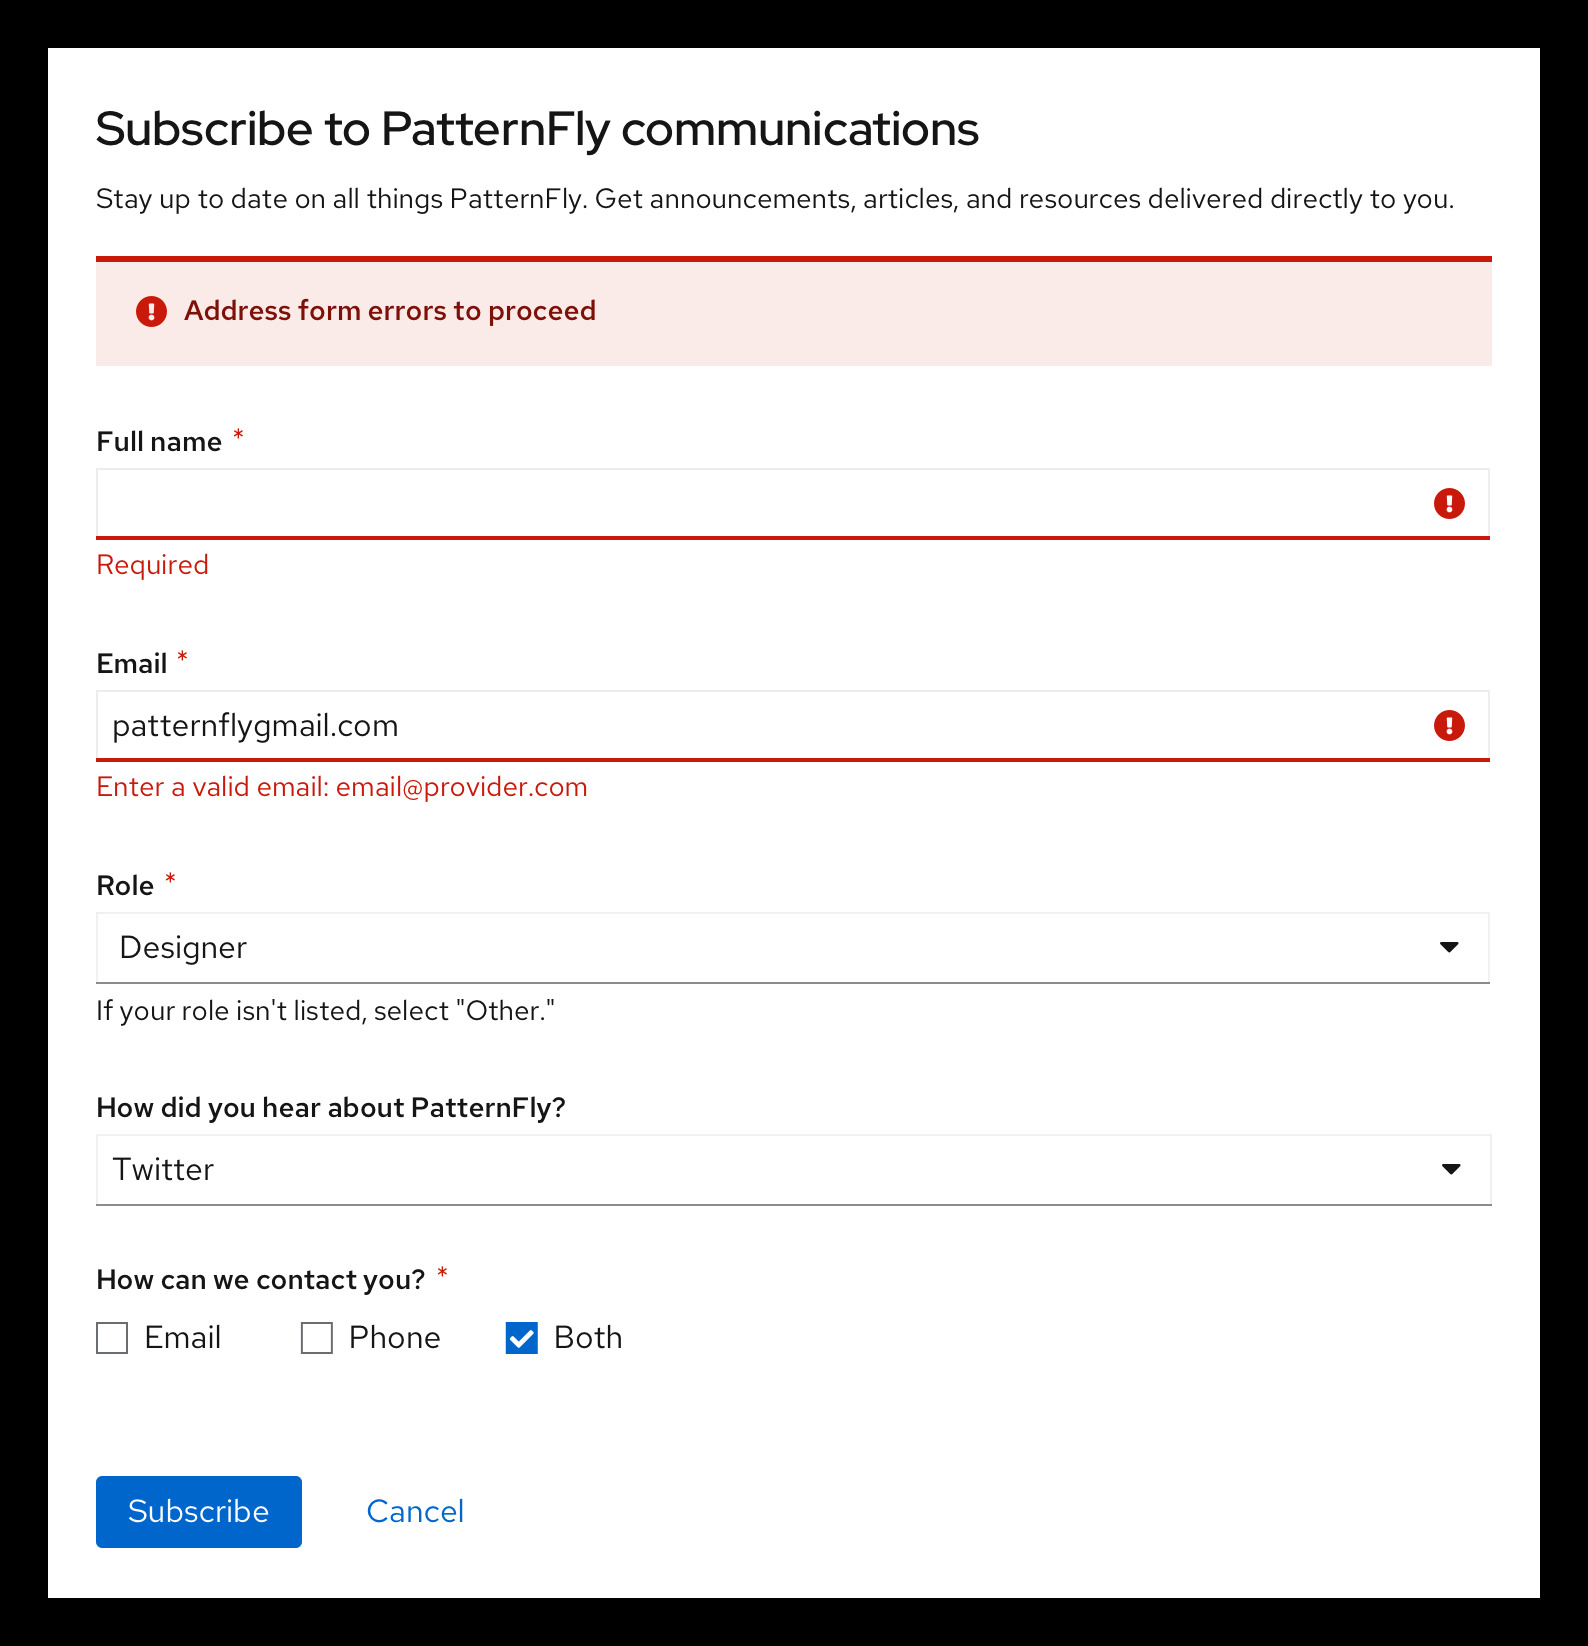error_field: (93, 464, 1490, 544), (93, 686, 1493, 763)
error_message: (90, 775, 595, 801), (176, 294, 610, 323), (93, 547, 213, 582)
